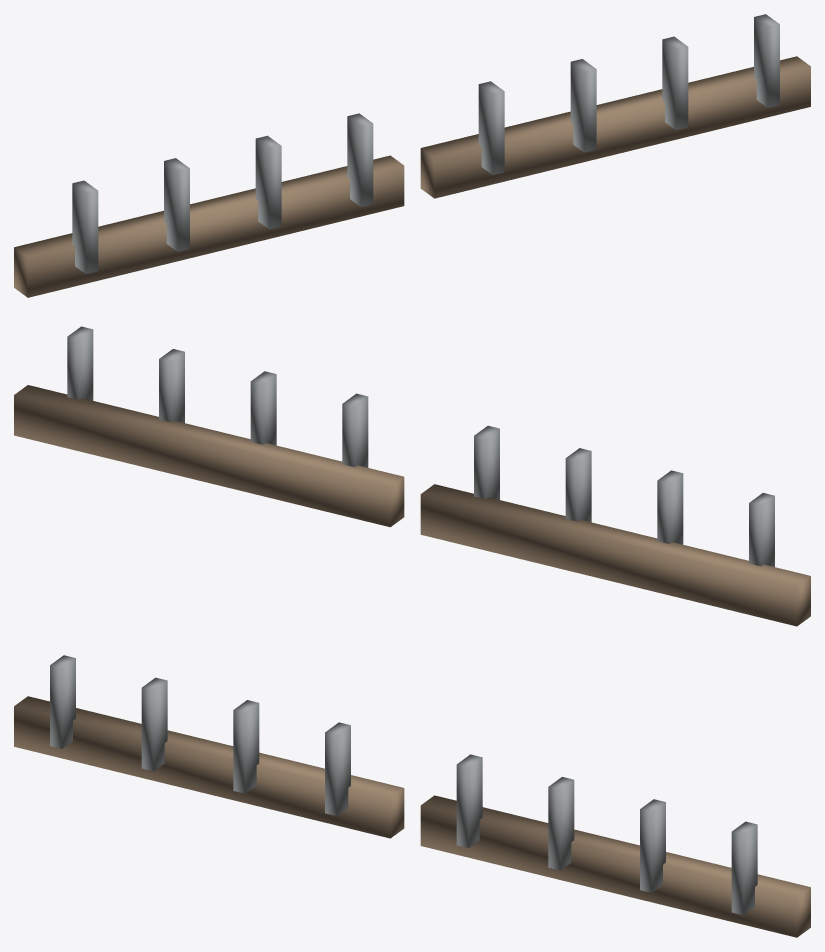
File: coat_hook_rail__cluster.glb
3 renders of one model, top to bottom at view 1: azimuth 30°, elevation 25°; view 2: azimuth 150°, elevation 25°; view 3: azimuth 330°, elevation 25°, orthographic.
Visible parts, largest first — view 1: world; view 2: world; view 3: world.
Boxes of the visible parts, x1=… form: world: x1=14, y1=14, x2=810, y2=297; world: x1=14, y1=326, x2=810, y2=626; world: x1=14, y1=655, x2=810, y2=937.
Bounding box in the file's own units: 1.62 × 0.2 × 0.09.
